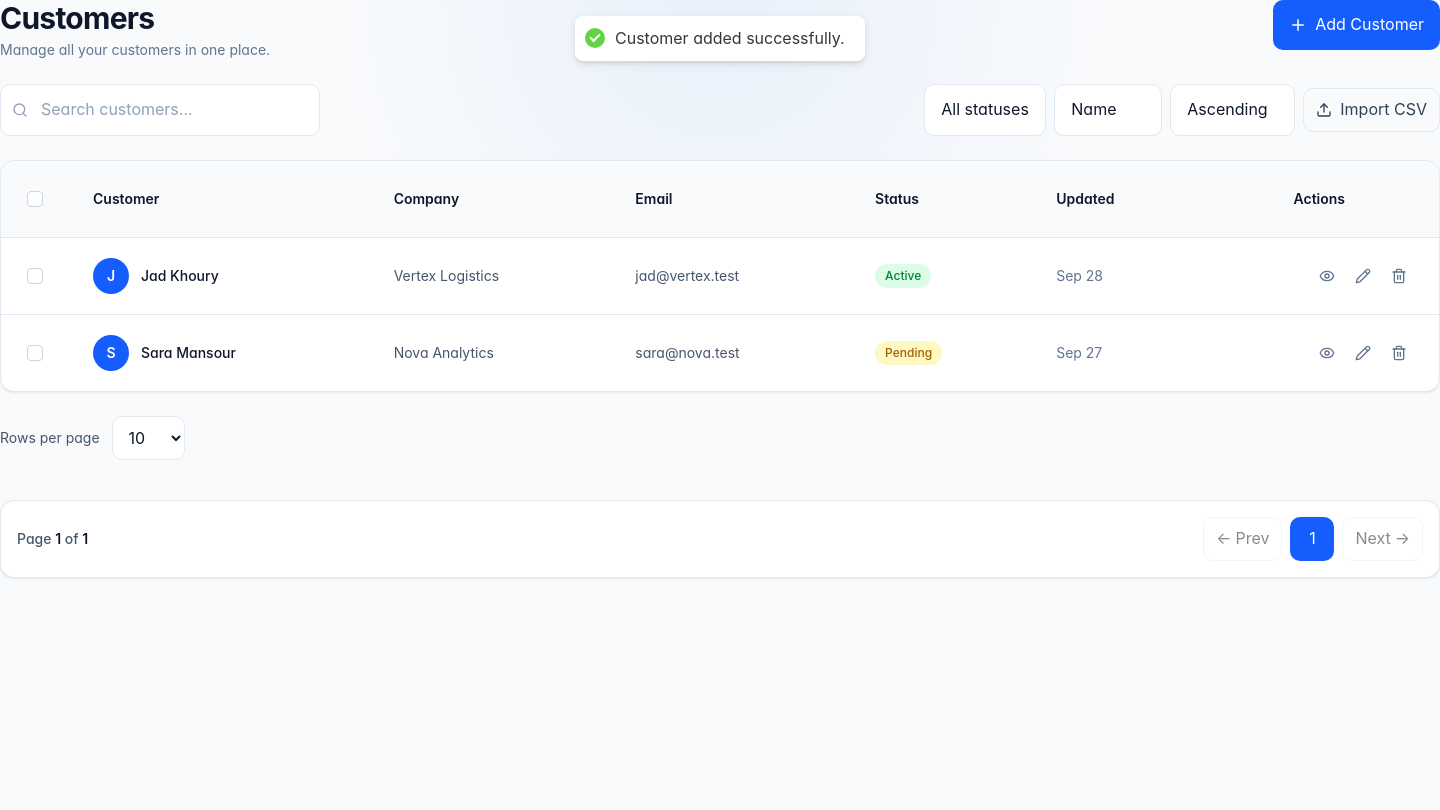
Test: Customers — create › blocks submission and explains why when required fields are empty
Click the button "Add Customer" at (1357, 25), box [1273,0,1439,50]
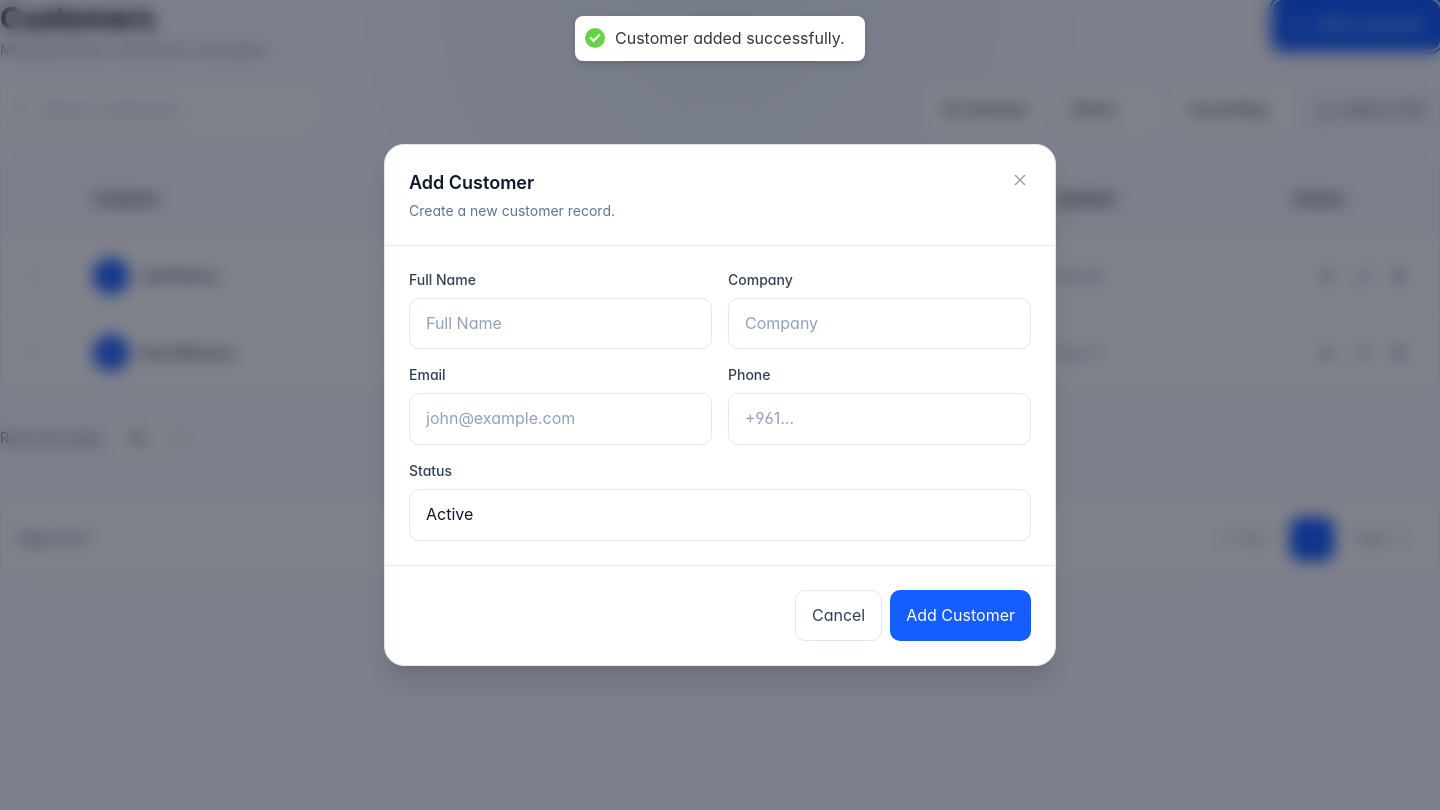
Click the button "Add Customer" at (961, 615), box [890,590,1031,641]
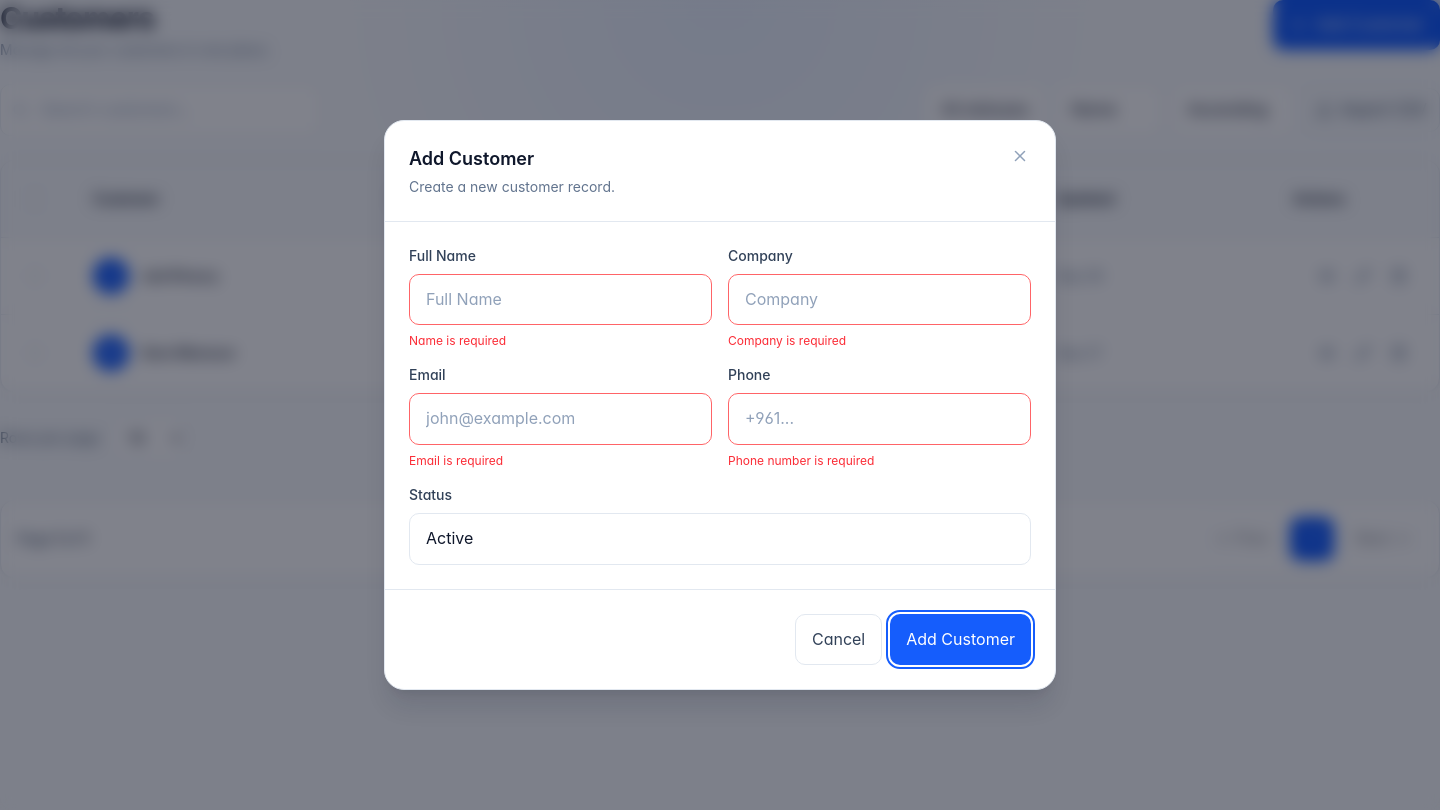
Result: the text "Name is required" is shown at [409,333,506,348]
